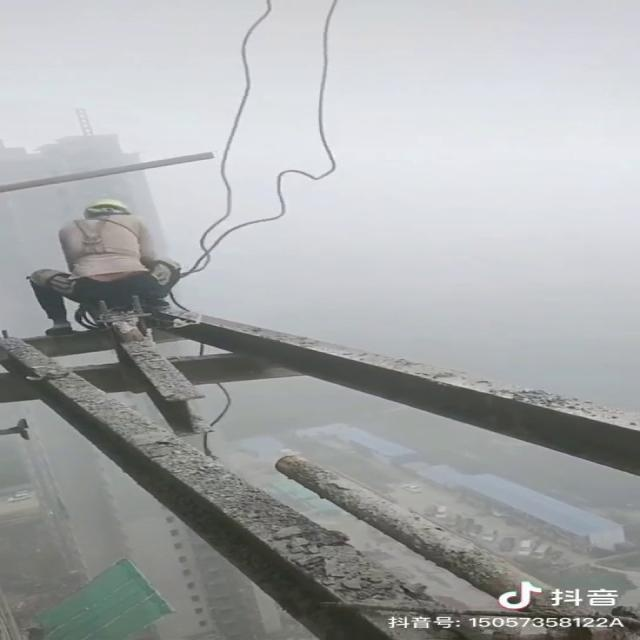Arnes_seguridad: (52, 213, 148, 271)
